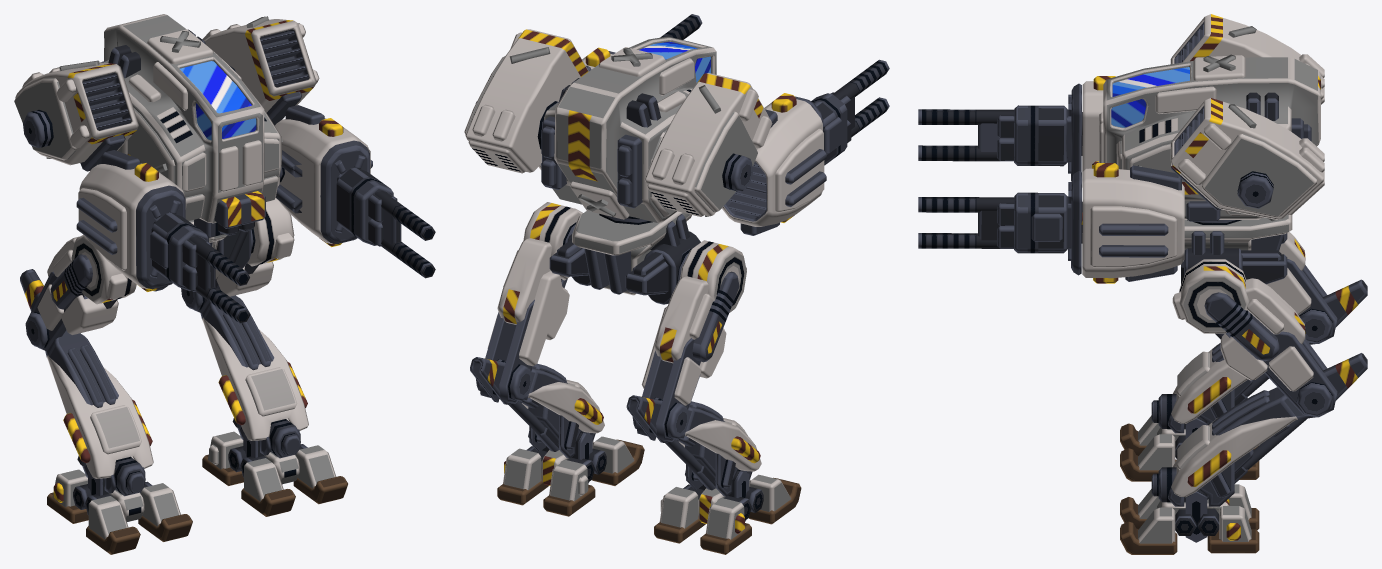
File: StaticMech_BigGuns.FBX
3 renders of one model, left to right at view 1: azimuth 30°, elevation 25°; view 2: azimuth 150°, elevation 25°; view 3: azimuth 270°, elevation 25°, orthographic. The views are drawn at different scales.
Parts seen in each view (by area): view 1: Line001; view 2: Line001; view 3: Line001.
Part boxes in pixels (left/top/right/bottom): Line001: left=14, top=14, right=435, bottom=554; Line001: left=464, top=14, right=889, bottom=554; Line001: left=918, top=14, right=1367, bottom=554.
Bounding box in the file's own units: 8.39 × 13.78 × 12.77.
